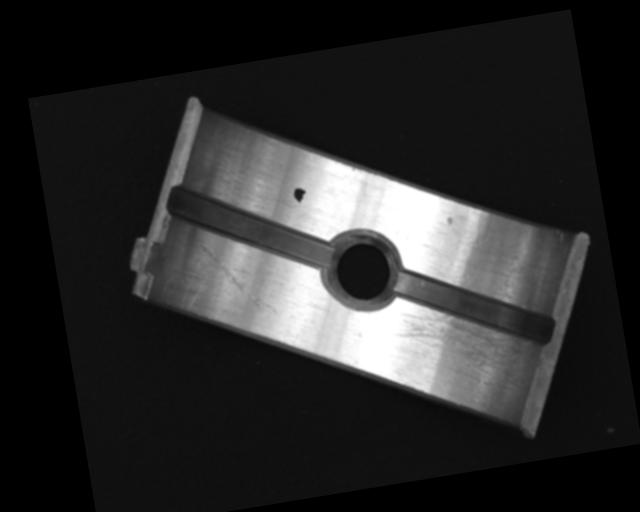blot: (292, 186, 308, 204)
bruise: (446, 215, 454, 226)
gap: (163, 162, 334, 291), (392, 247, 556, 366)
hole: (321, 227, 404, 315)
nick: (198, 232, 278, 324)
scratch: (378, 290, 539, 409)
